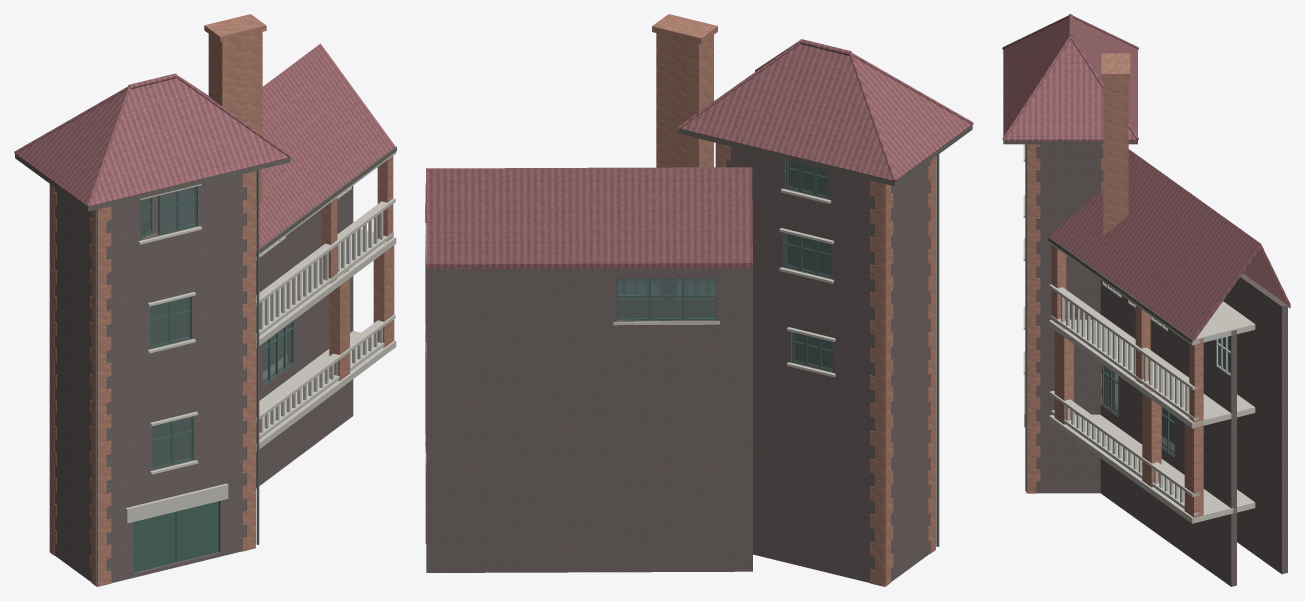
The model's file is lod-source.glb.
The picture shows the model from 3 angles, left to right: view 1: azimuth 30°, elevation 25°; view 2: azimuth 150°, elevation 25°; view 3: azimuth 270°, elevation 25°; orthographic projection. The views are drawn at different scales.
Parts seen in each view (by area): view 1: 新华村15号院面方塔与斜接侧廊; view 2: 新华村15号院面方塔与斜接侧廊; view 3: 新华村15号院面方塔与斜接侧廊.
Part boxes in pixels (x1,y1,x2,y2): 新华村15号院面方塔与斜接侧廊: (14, 14, 396, 586); 新华村15号院面方塔与斜接侧廊: (425, 14, 973, 586); 新华村15号院面方塔与斜接侧廊: (1002, 14, 1290, 586).
Bounding box in the file's own units: 14.61 × 16.28 × 9.62.
Materials: 9 (3 with a texture image).
